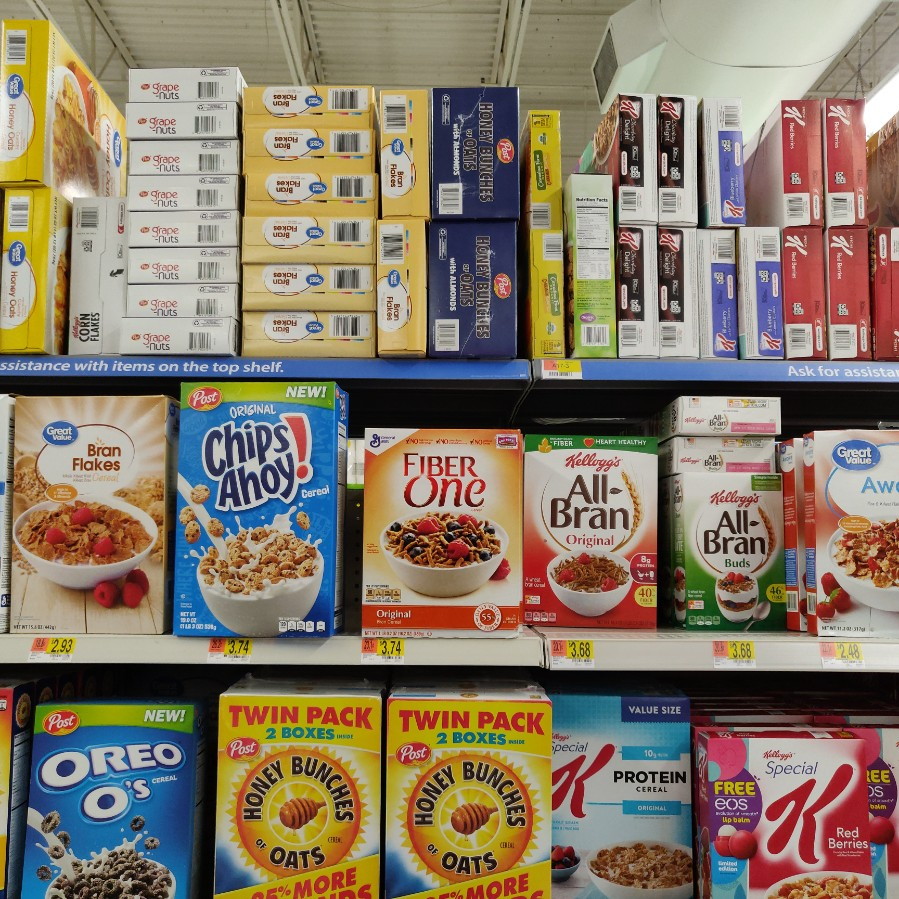Chips Ahoys-565717529: (177, 382, 343, 634)
Oreo-563424384: (31, 701, 197, 896)
